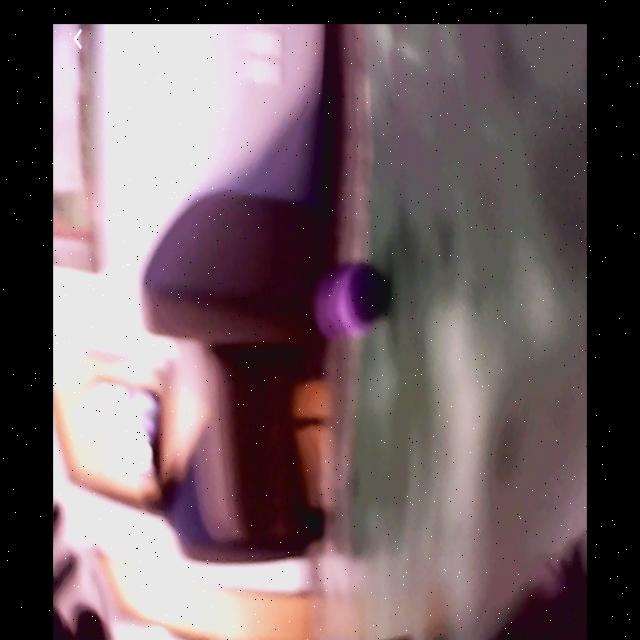ball: (335, 264, 386, 332)
